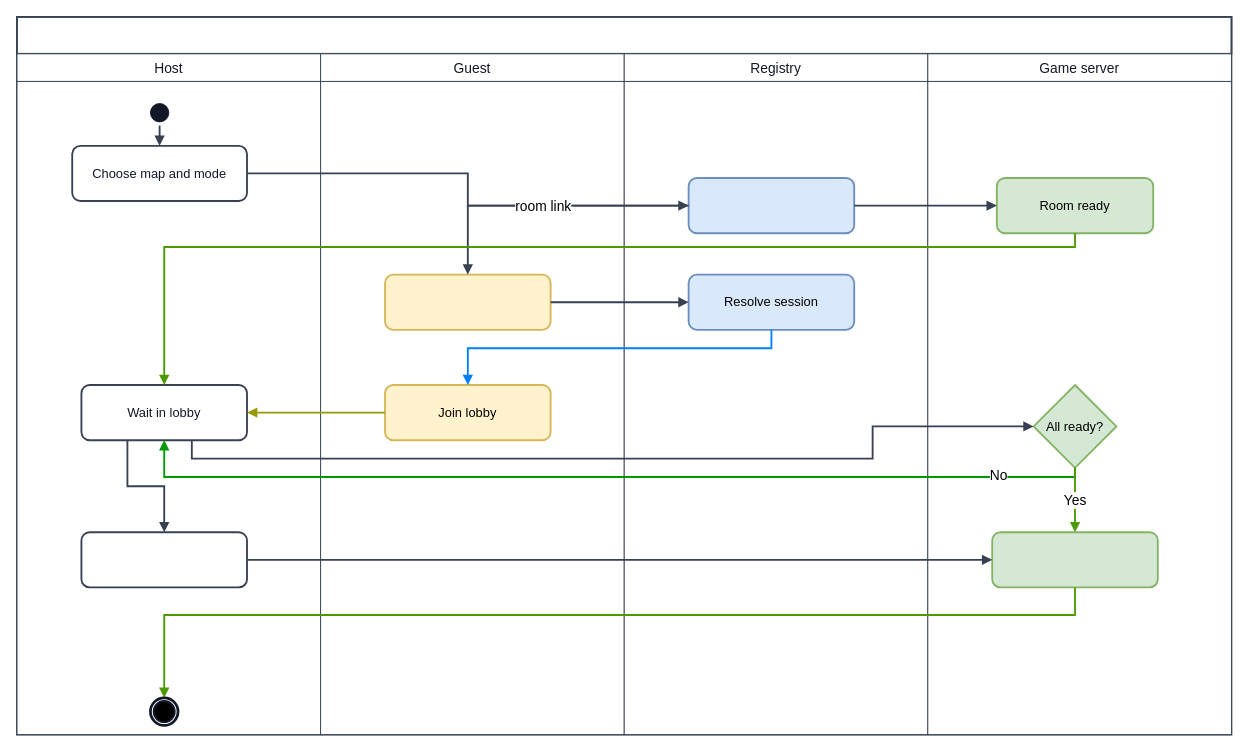
Some shapes in this 1248 by 751 pixel diagram are drawn without their labels. The centre of each missing label's shape, as x and y in pixels:
Create room: (771,205)
Load gameplay: (1074,559)
Multiplayer Internet activity diagram: (624,35)
Open room link: (467,301)
Start match: (163,559)
